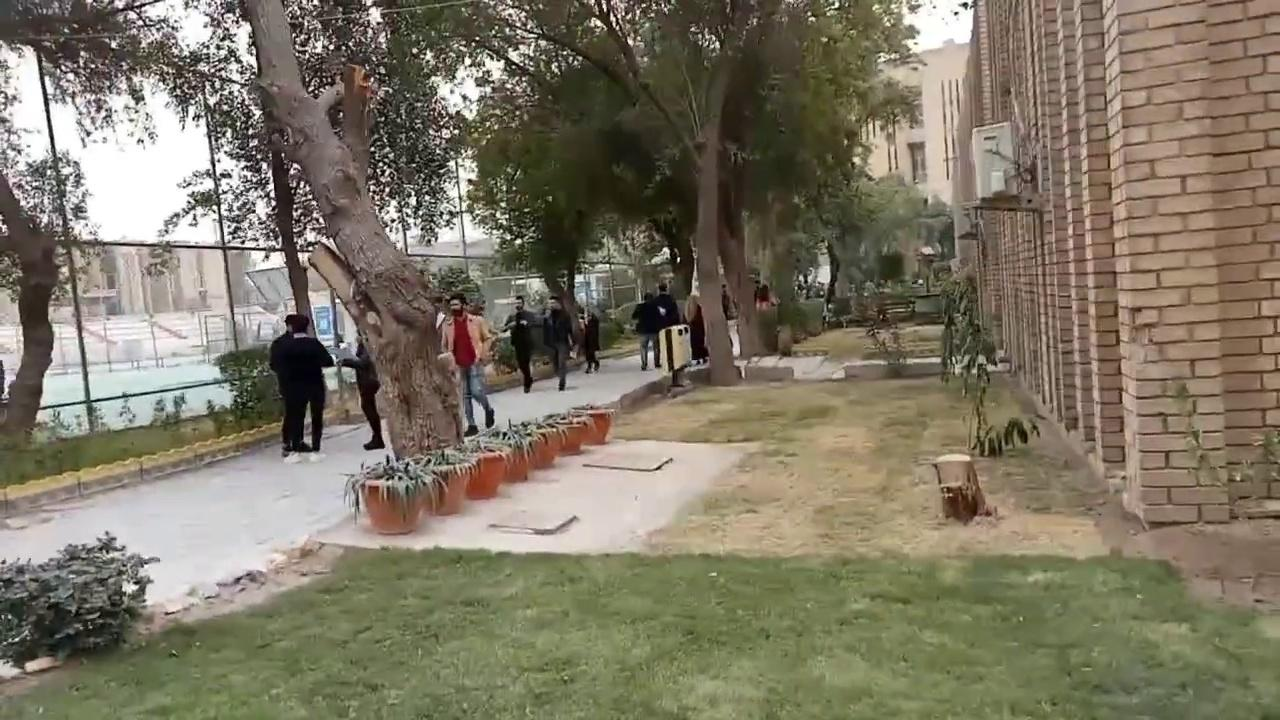person: (268, 313, 334, 457), (437, 292, 495, 436), (337, 333, 385, 450), (501, 295, 537, 393), (543, 295, 574, 391), (630, 292, 663, 370), (684, 292, 707, 365), (581, 310, 601, 373)
tree: (502, 0, 972, 462), (237, 0, 469, 460), (0, 0, 167, 435), (935, 260, 1041, 457)
